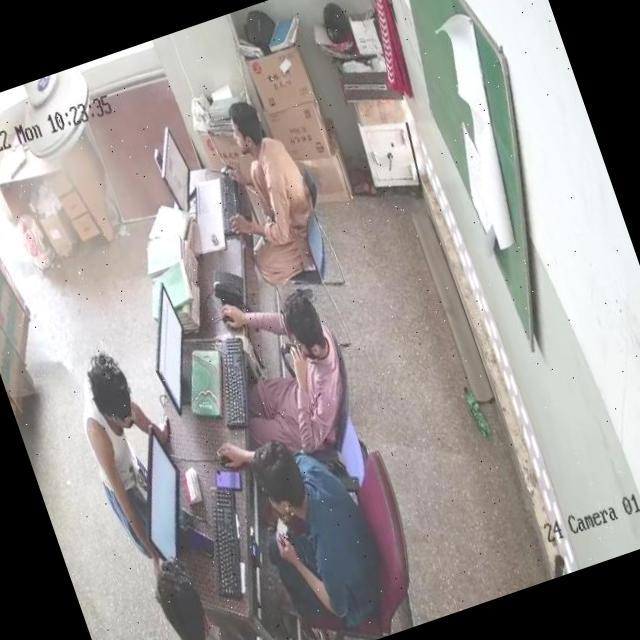person: (249, 417, 390, 626), (219, 278, 361, 450), (213, 93, 334, 287), (58, 344, 171, 546), (138, 554, 244, 640)
